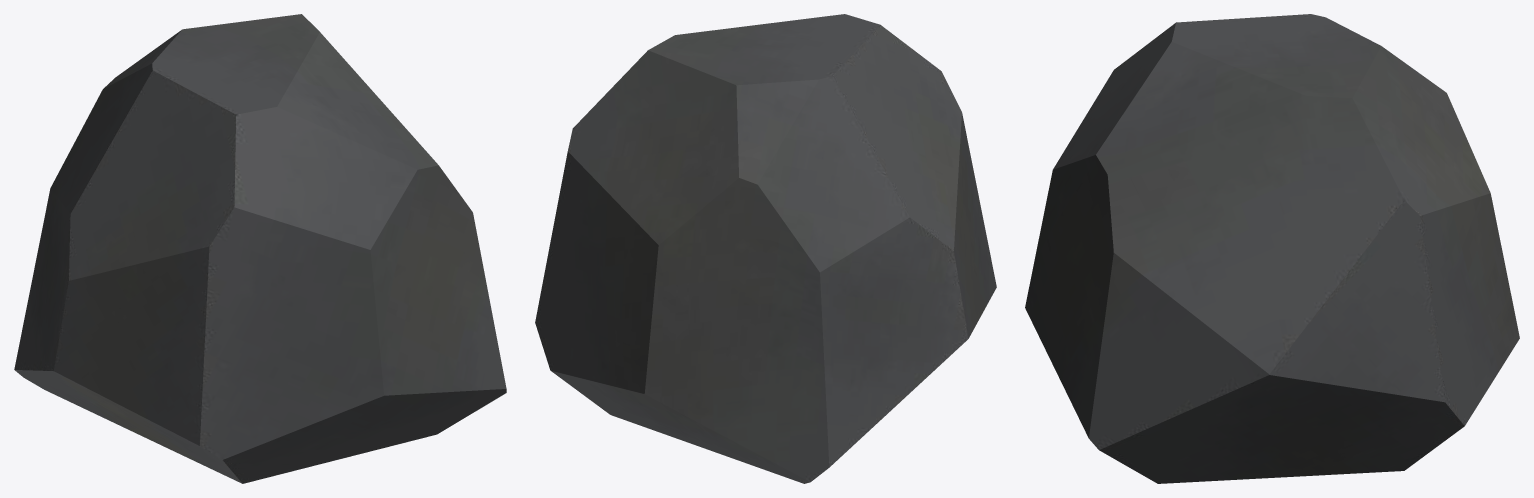
The model's file is stone.fbx.
3 renders of one model, left to right at view 1: azimuth 30°, elevation 25°; view 2: azimuth 150°, elevation 25°; view 3: azimuth 270°, elevation 25°, orthographic. The views are drawn at different scales.
Visible parts, largest first — view 1: Rock.002; view 2: Rock.002; view 3: Rock.002.
Boxes of the visible parts, x1,y1,x2,y2 form: Rock.002: (14, 14, 506, 483); Rock.002: (535, 14, 996, 483); Rock.002: (1025, 14, 1519, 483).
Bounding box in the file's own units: 1114 × 929 × 1138.
